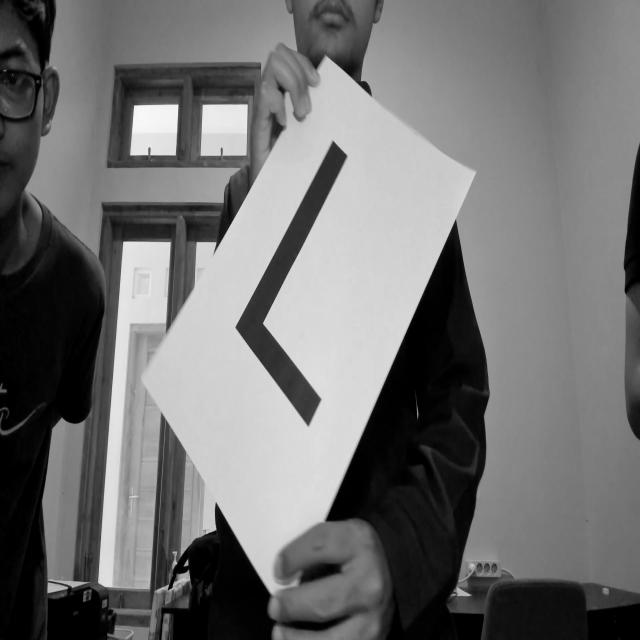l: (231, 120, 364, 444)
